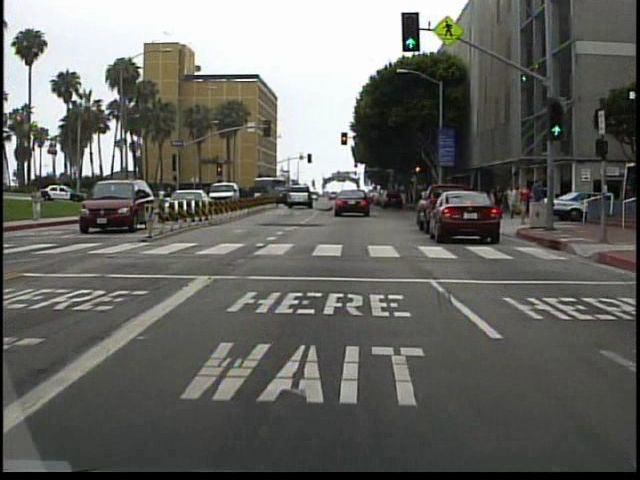person: (531, 175, 548, 223), (32, 182, 50, 221), (514, 184, 530, 225), (504, 181, 519, 222)
